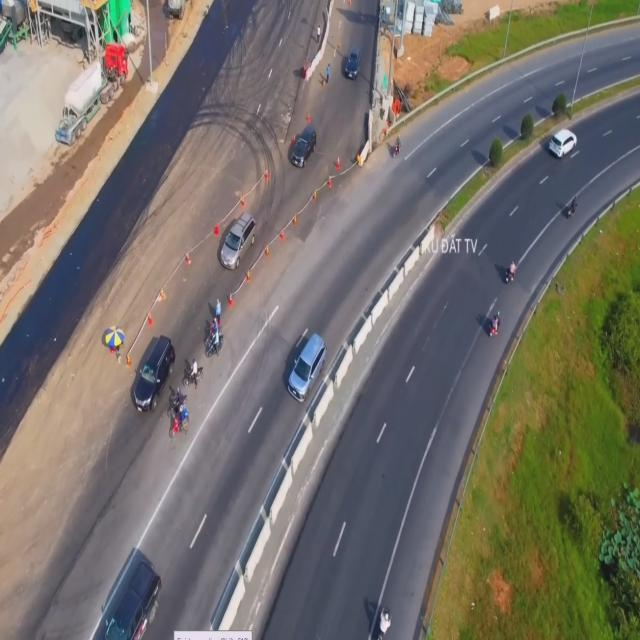car: (104, 559, 161, 640), (131, 329, 177, 412), (284, 329, 324, 407), (219, 209, 257, 271), (289, 126, 320, 171), (342, 45, 364, 80), (550, 129, 576, 158)
motorbike: (168, 410, 189, 441), (183, 361, 204, 387), (203, 332, 222, 359), (487, 310, 505, 338), (378, 607, 392, 640), (567, 194, 582, 221), (504, 260, 516, 284)
